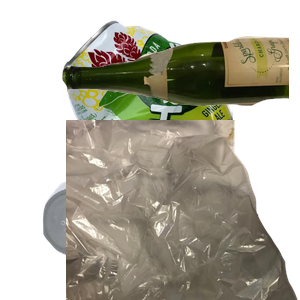glass: (60, 34, 300, 133)
metal: (60, 18, 300, 198)
plastic: (40, 170, 187, 300)
trash: (66, 120, 300, 300)
